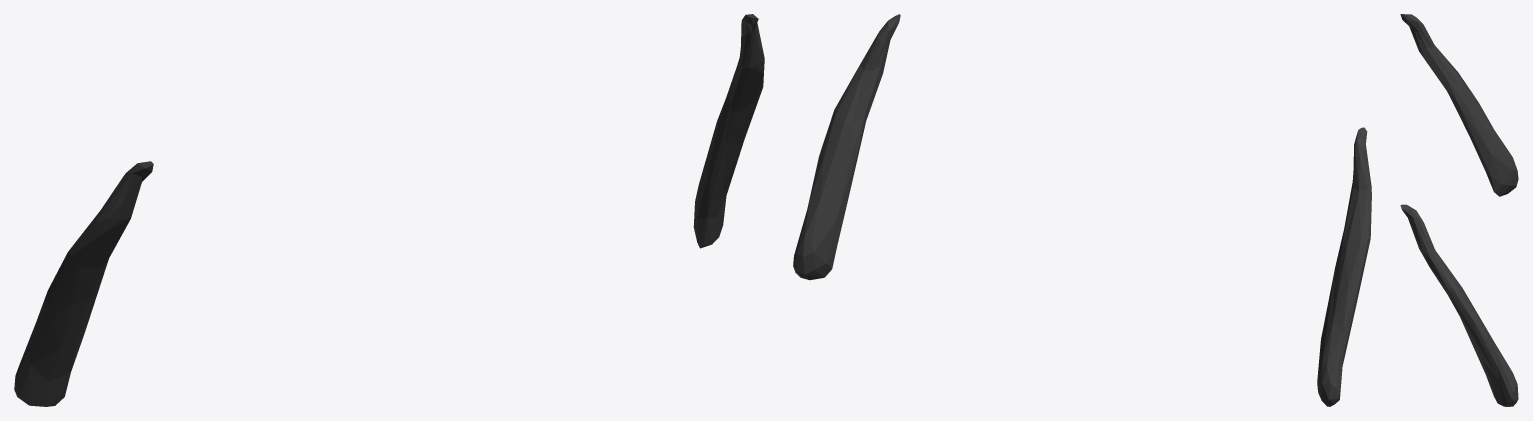
The model's file is m_adductor_digiti_I.glb.
The picture shows the model from 3 angles, left to right: view 1: azimuth 30°, elevation 25°; view 2: azimuth 150°, elevation 25°; view 3: azimuth 270°, elevation 25°; orthographic projection. The views are drawn at different scales.
Parts seen in each view (by area): view 1: m_adductor_digiti_I; view 2: m_adductor_digiti_I; view 3: m_adductor_digiti_I.
Part boxes in pixels (x1,y1,x2,y2): m_adductor_digiti_I: (14, 14, 764, 406); m_adductor_digiti_I: (793, 14, 1371, 406); m_adductor_digiti_I: (1400, 14, 1518, 406).
Size of the model in its own units: 0.00271 by 0.00107 by 0.000603.
Materials: 1 (1 with a texture image).
